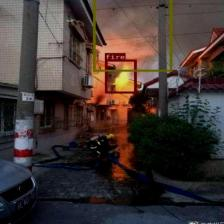fire: (105, 59, 136, 93)
smoke: (92, 0, 172, 71)
